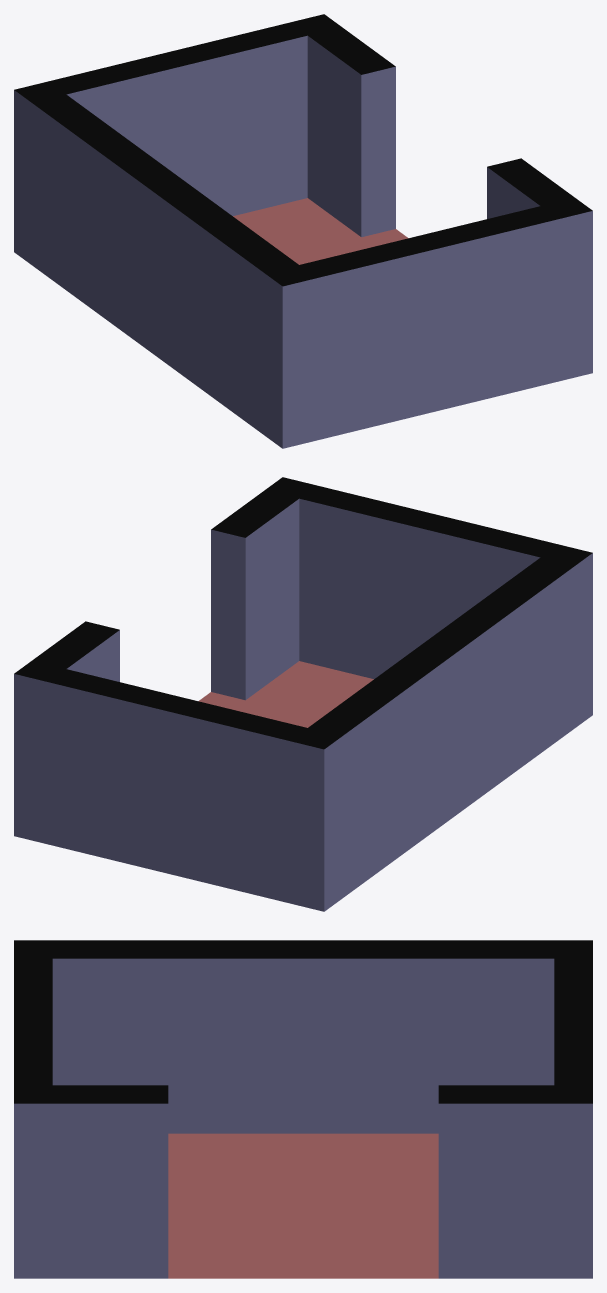
Rendered from Elevator.fbx.
3 renders of one model, top to bottom at view 1: azimuth 30°, elevation 25°; view 2: azimuth 150°, elevation 25°; view 3: azimuth 270°, elevation 25°, orthographic. The views are drawn at different scales.
Parts seen in each view (by area): view 1: Elevator; view 2: Elevator; view 3: Elevator.
Boxes of the visible parts, left/top/right/bottom form: Elevator: left=14, top=14, right=592, bottom=448; Elevator: left=14, top=477, right=592, bottom=911; Elevator: left=14, top=940, right=592, bottom=1278.
Bounding box in the file's own units: 360 × 180 × 540.
